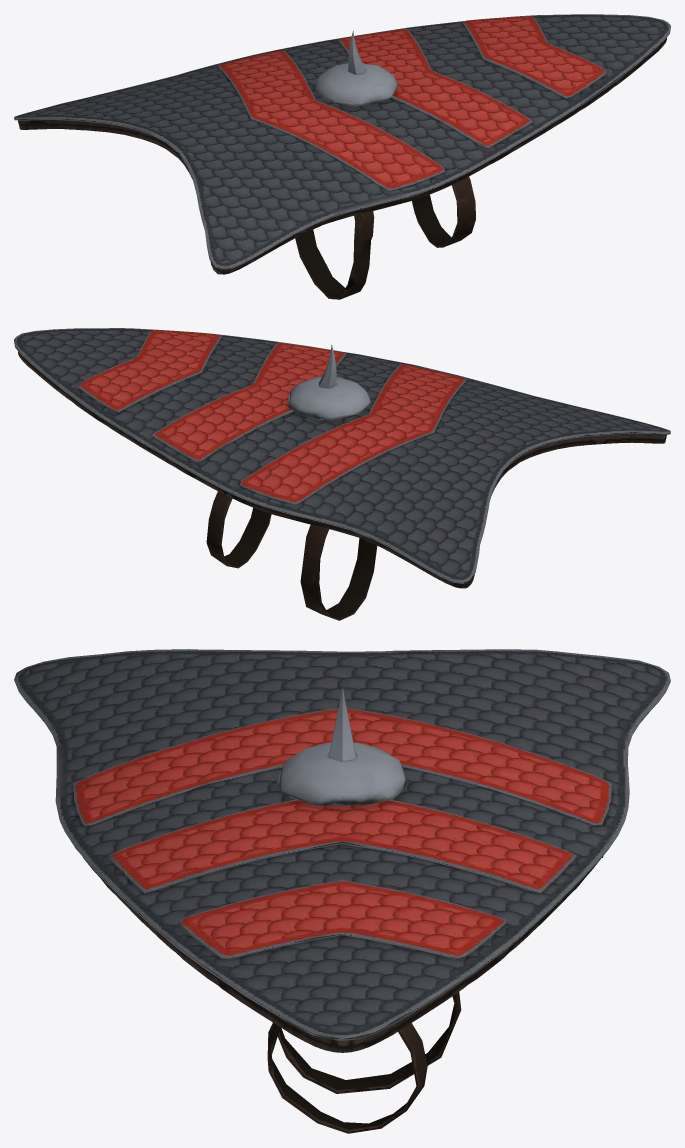
File: shield_dragon.glb
3 views of the same model, one above another, from view 1: azimuth 30°, elevation 25°; view 2: azimuth 150°, elevation 25°; view 3: azimuth 270°, elevation 25° (orthographic). The views are drawn at different scales.
Parts seen in each view (by area): view 1: shield; view 2: shield; view 3: shield.
Boxes of the visible parts, x1,y1,x2,y2 form: shield: (14, 14, 670, 299); shield: (14, 328, 670, 620); shield: (14, 649, 670, 1133).
Bounding box in the file's own units: 0.7625 × 0.3464 × 0.4991.
1 material, 1 textured.
